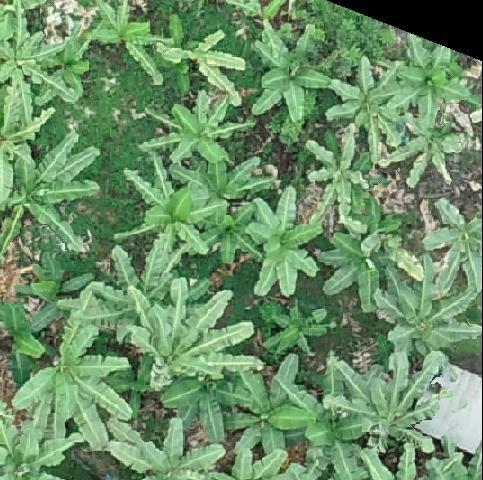Banana-plant: (126, 289, 265, 402), (13, 325, 129, 452), (2, 133, 109, 250), (122, 160, 219, 274), (317, 53, 407, 165), (376, 265, 483, 357), (0, 10, 83, 123), (248, 190, 328, 307), (342, 361, 445, 445), (242, 29, 321, 124), (229, 357, 305, 455), (80, 1, 165, 85), (152, 93, 237, 173), (386, 41, 465, 116), (427, 201, 483, 303), (320, 219, 393, 296), (120, 421, 212, 480), (308, 129, 368, 214), (392, 119, 470, 175), (202, 205, 260, 273)
